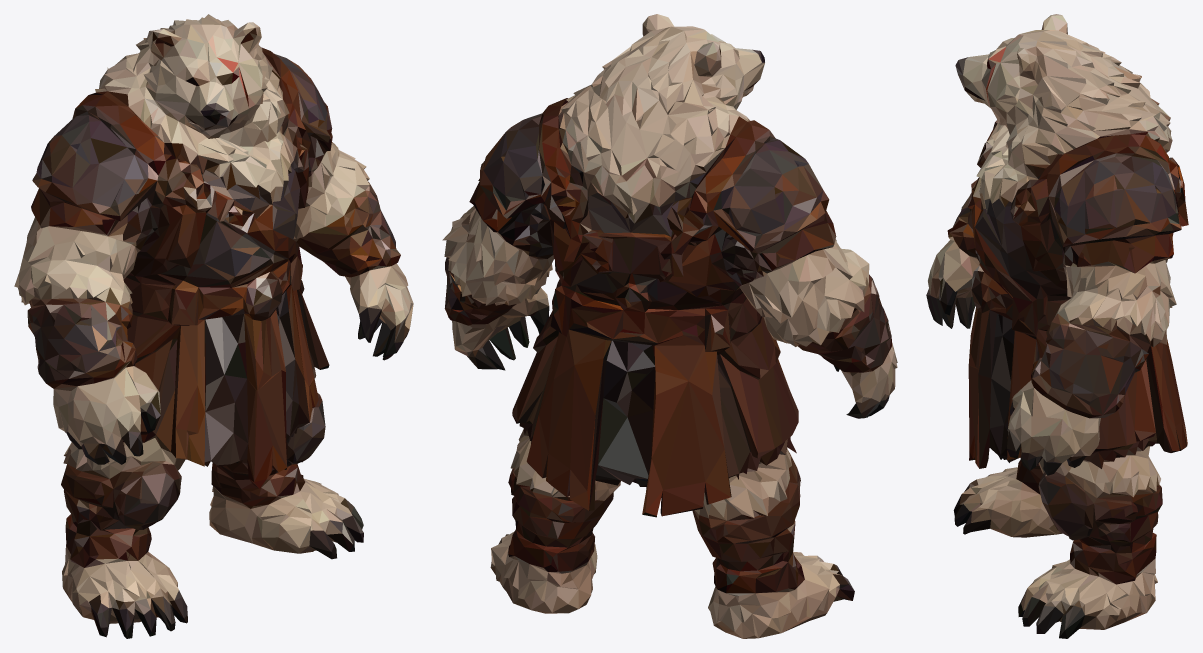
Rendered from voly.glb.
The picture shows the model from 3 angles, left to right: view 1: azimuth 30°, elevation 25°; view 2: azimuth 150°, elevation 25°; view 3: azimuth 270°, elevation 25°; orthographic projection. The views are drawn at different scales.
Parts seen in each view (by area): view 1: tripo_node_39e56b71-b078-4441-b526-e412ee6f5615; view 2: tripo_node_39e56b71-b078-4441-b526-e412ee6f5615; view 3: tripo_node_39e56b71-b078-4441-b526-e412ee6f5615.
Boxes of the visible parts, bbox=[...] form: tripo_node_39e56b71-b078-4441-b526-e412ee6f5615: bbox=[14, 14, 413, 638]; tripo_node_39e56b71-b078-4441-b526-e412ee6f5615: bbox=[442, 14, 897, 638]; tripo_node_39e56b71-b078-4441-b526-e412ee6f5615: bbox=[926, 14, 1188, 638].
Bounding box in the file's own units: 1.61 × 2.2 × 0.9884.
